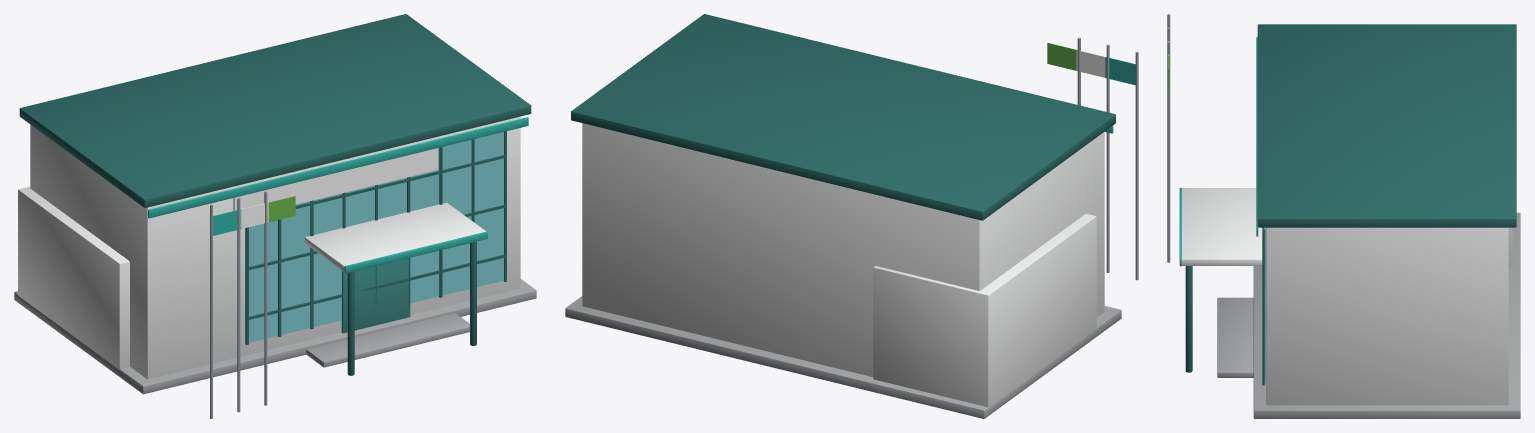
Rendered from koat_hq.glb.
3 views of the same model, side by side, from view 1: azimuth 30°, elevation 25°; view 2: azimuth 150°, elevation 25°; view 3: azimuth 270°, elevation 25° (orthographic). The views are drawn at different scales.
Parts seen in each view (by area): view 1: HQBody, CurtainWall, Entrance, SignBoard, Flag2, Flag1, Flag0; view 2: HQBody, Flag0, Flag1, Flag2; view 3: HQBody, Entrance, Flag2, CurtainWall.
Boxes of the visible parts, bbox=[...] form: HQBody: bbox=[14, 14, 536, 394]; CurtainWall: bbox=[245, 131, 506, 344]; Entrance: bbox=[304, 202, 487, 375]; SignBoard: bbox=[233, 148, 438, 210]; Flag2: bbox=[264, 191, 295, 405]; Flag1: bbox=[237, 198, 268, 412]; Flag0: bbox=[210, 204, 241, 418]; HQBody: bbox=[565, 14, 1121, 418]; Flag0: bbox=[1105, 51, 1138, 280]; Flag1: bbox=[1076, 44, 1109, 272]; Flag2: bbox=[1047, 37, 1080, 105]; HQBody: bbox=[1253, 24, 1520, 418]; Entrance: bbox=[1179, 187, 1262, 377]; Flag2: bbox=[1167, 41, 1170, 262]; CurtainWall: bbox=[1262, 227, 1265, 385].
Bounding box in the file's own units: 11.6 × 6 × 8.74.
